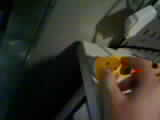duck: (86, 46, 121, 85)
